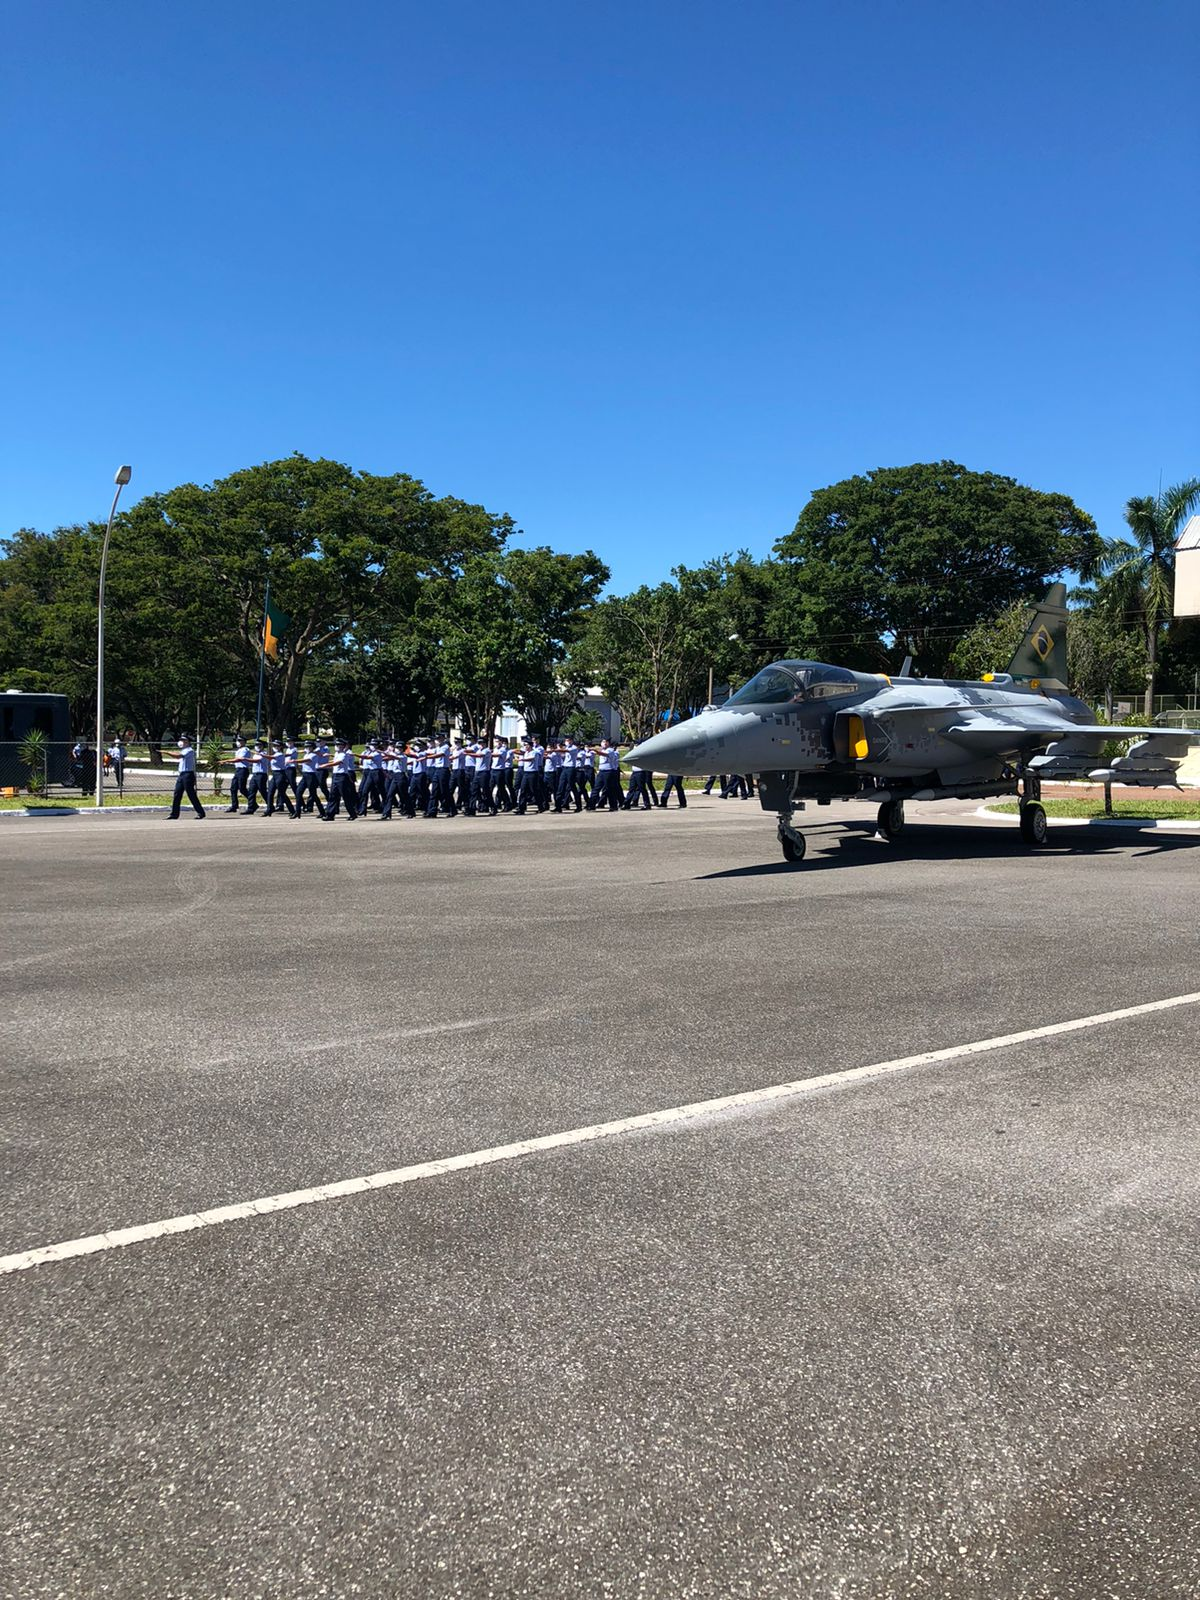JAS39: (615, 581, 1200, 864)
